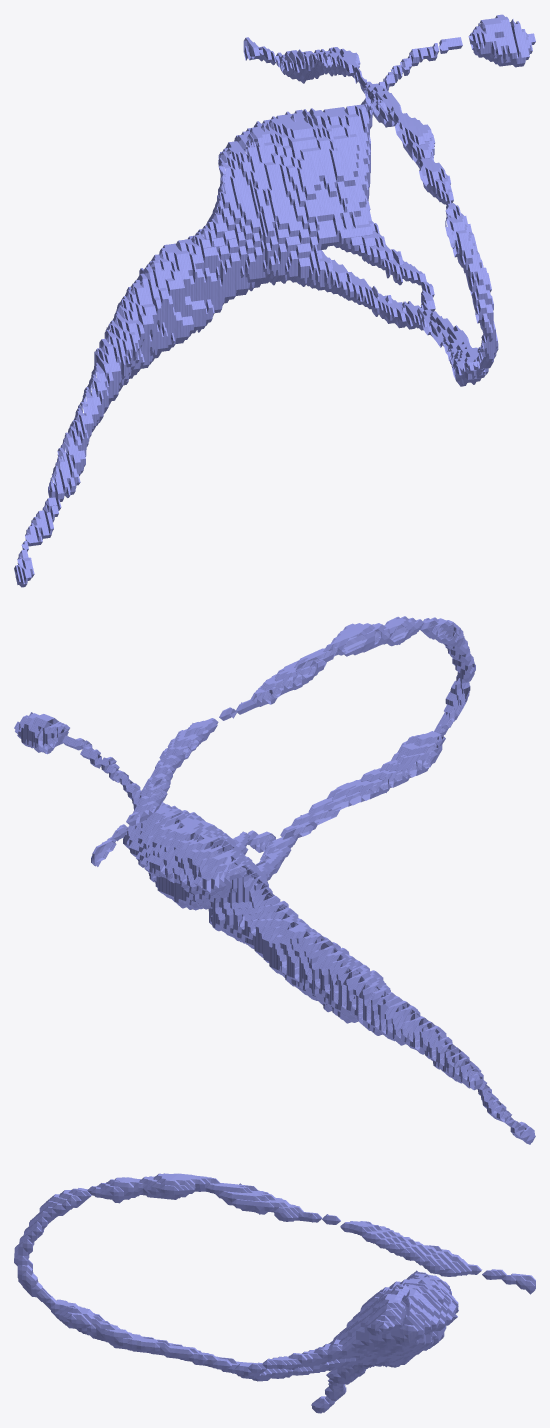
The model's file is SVV_IL1DL.gltf.
3 renders of one model, top to bottom at view 1: azimuth 30°, elevation 25°; view 2: azimuth 150°, elevation 25°; view 3: azimuth 270°, elevation 25°, orthographic. The views are drawn at different scales.
Visible parts, largest first — view 1: IL1DL; view 2: IL1DL; view 3: IL1DL.
Boxes of the visible parts, <box> form: IL1DL: <box>14,14,535,587</box>; IL1DL: <box>14,616,535,1144</box>; IL1DL: <box>14,1173,535,1413</box>.
Size of the model in its own units: 66868 by 52089 by 71180.
